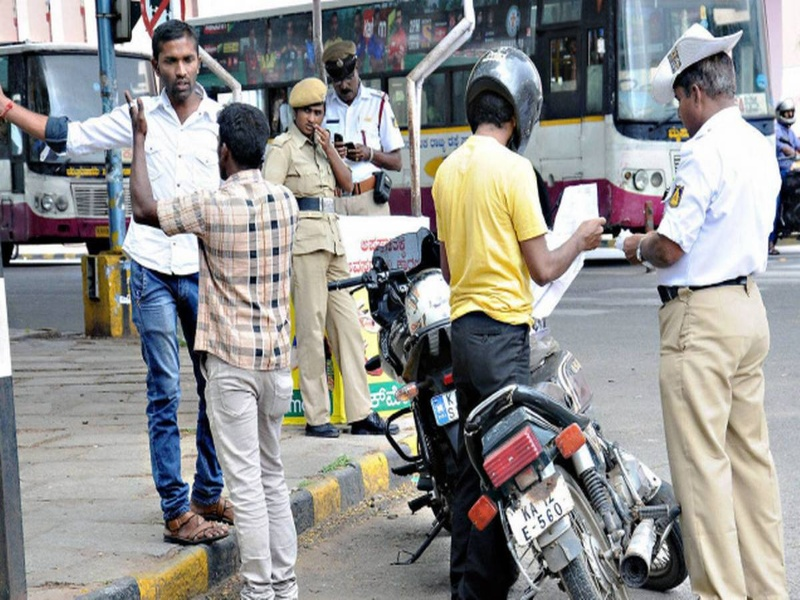helmet: (461, 42, 546, 159), (772, 97, 800, 129)
